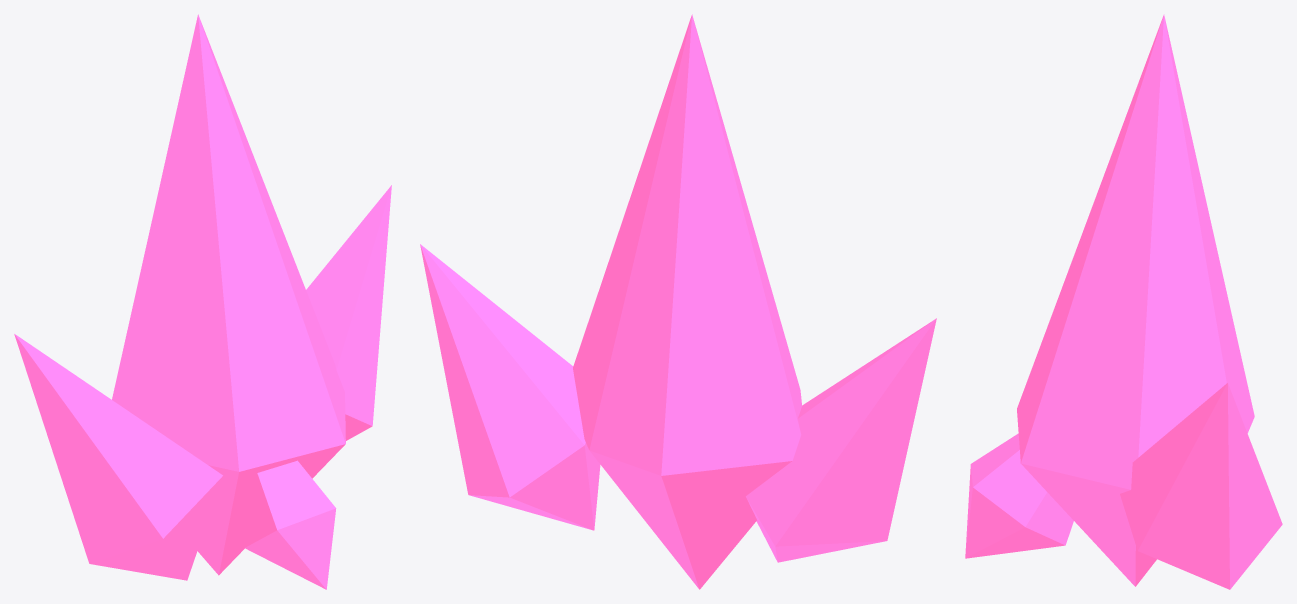
File: soul_shard_1.glb
The picture shows the model from 3 angles, left to right: view 1: azimuth 30°, elevation 25°; view 2: azimuth 150°, elevation 25°; view 3: azimuth 270°, elevation 25°; orthographic projection. The views are drawn at different scales.
Parts seen in each view (by area): view 1: spin_mesh; view 2: spin_mesh; view 3: spin_mesh.
Part boxes in pixels (box(x1,y1,x2,y2)): spin_mesh: box(14, 14, 391, 589); spin_mesh: box(420, 14, 936, 589); spin_mesh: box(965, 14, 1282, 589).
Size of the model in its own units: 0.2778 by 0.34 by 0.1717.
